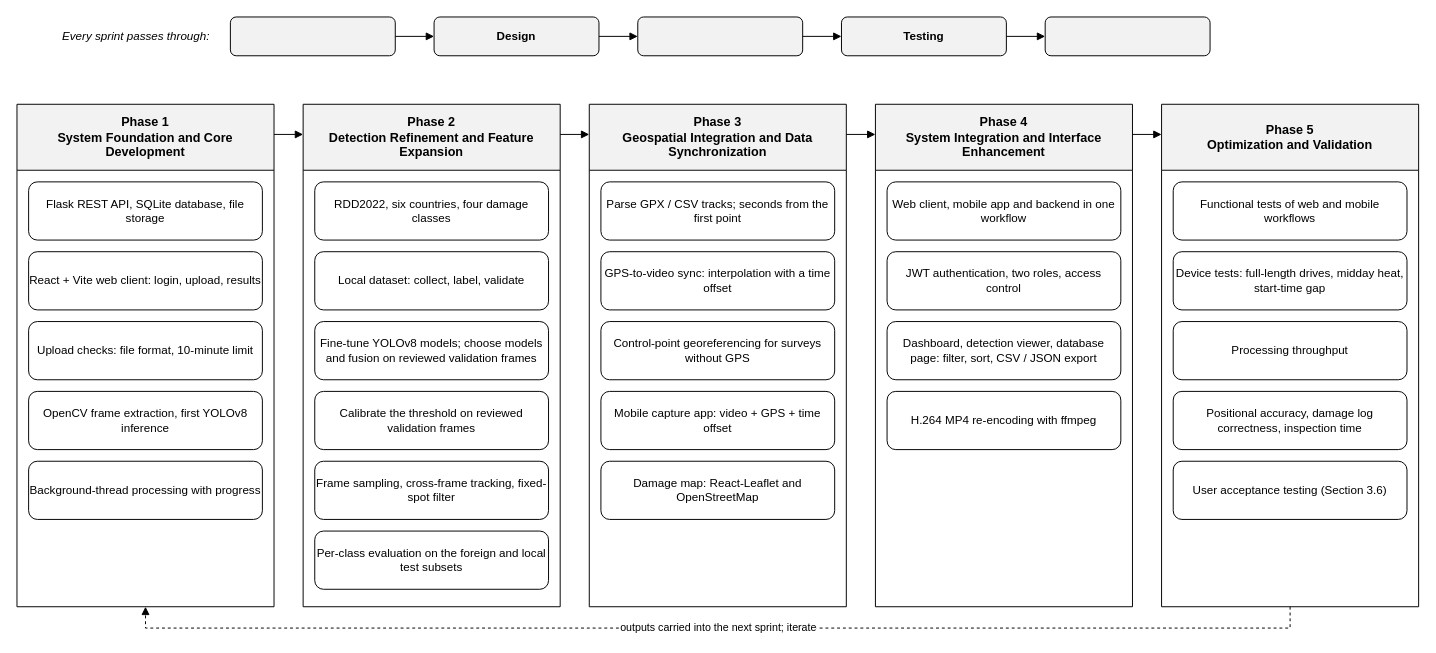
This 1436x653 diagram has some shape labels left out. The centre of each missing label's shape, as x and y in pixels:
"Development" belongs at (x=720, y=36).
"Planning" belongs at (x=312, y=36).
"Review" belongs at (x=1127, y=36).
